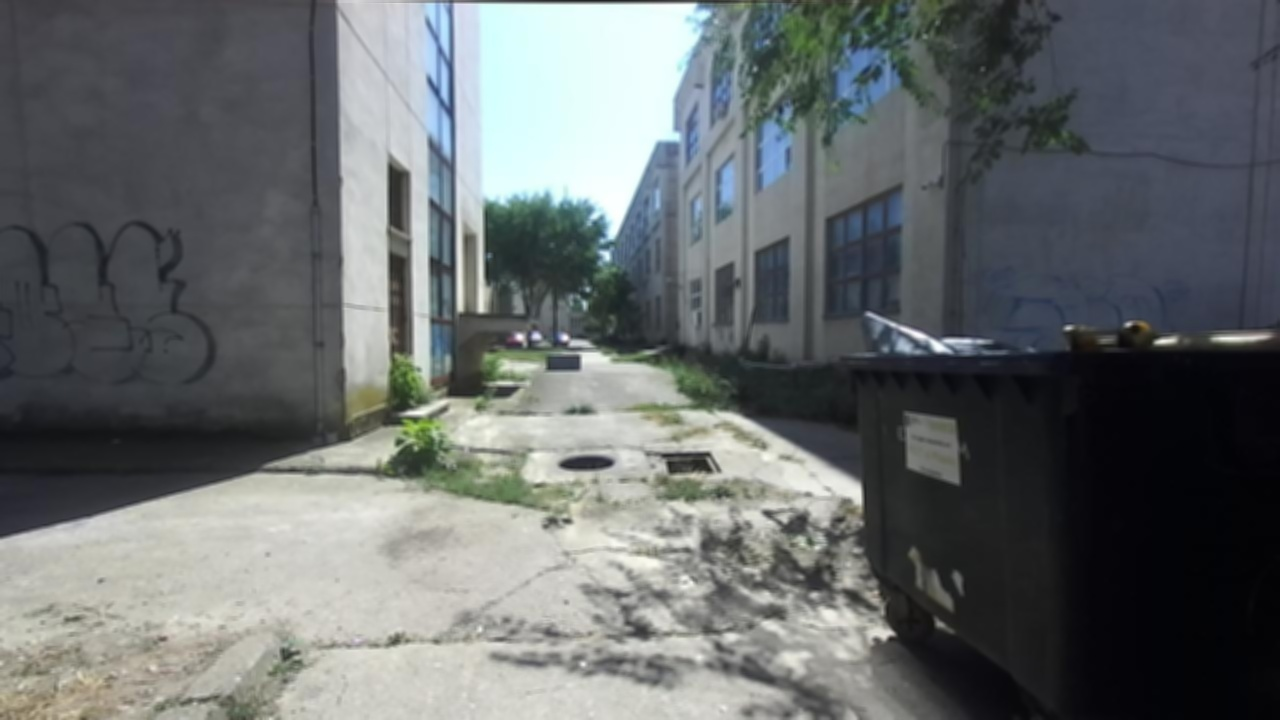drain: (656, 447, 723, 477), (556, 447, 620, 474)
